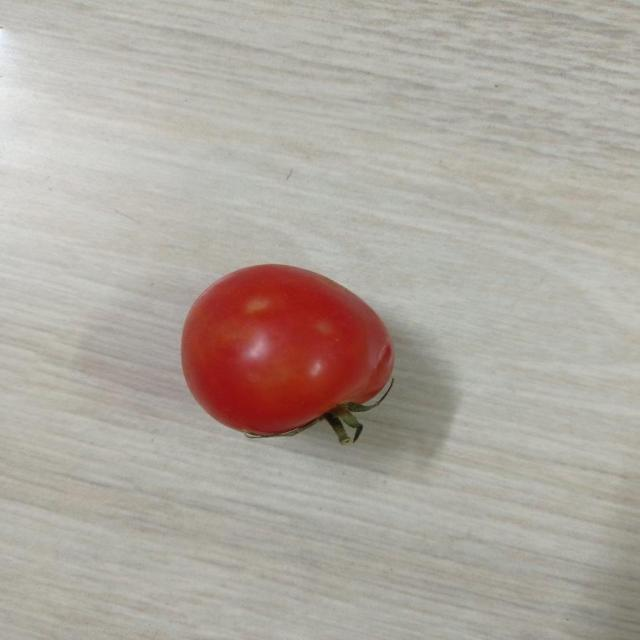Tomato: (176, 260, 402, 452)
